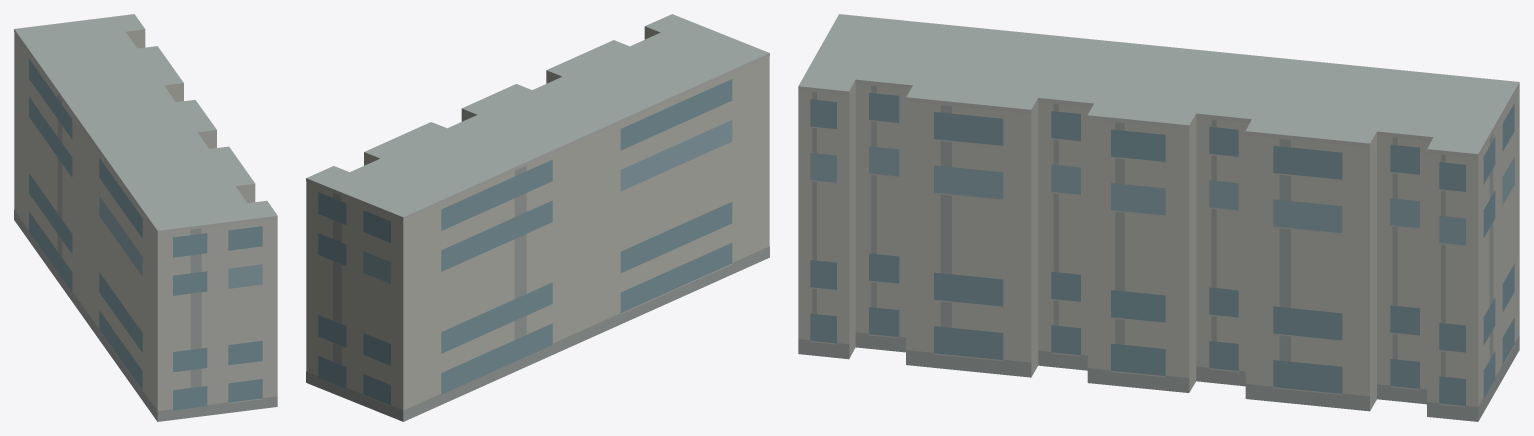
The model's file is survey-upis-32917320.glb.
3 views of the same model, side by side, from view 1: azimuth 30°, elevation 25°; view 2: azimuth 150°, elevation 25°; view 3: azimuth 270°, elevation 25° (orthographic). The views are drawn at different scales.
Parts seen in each view (by area): view 1: survey-upis-32917320.tmp; view 2: survey-upis-32917320.tmp; view 3: survey-upis-32917320.tmp.
Part boxes in pixels (<box>): survey-upis-32917320.tmp: <box>14,14,277,421</box>; survey-upis-32917320.tmp: <box>306,14,769,421</box>; survey-upis-32917320.tmp: <box>798,14,1519,421</box>.
Size of the model in its own units: 17.13 by 15.25 by 37.25.
